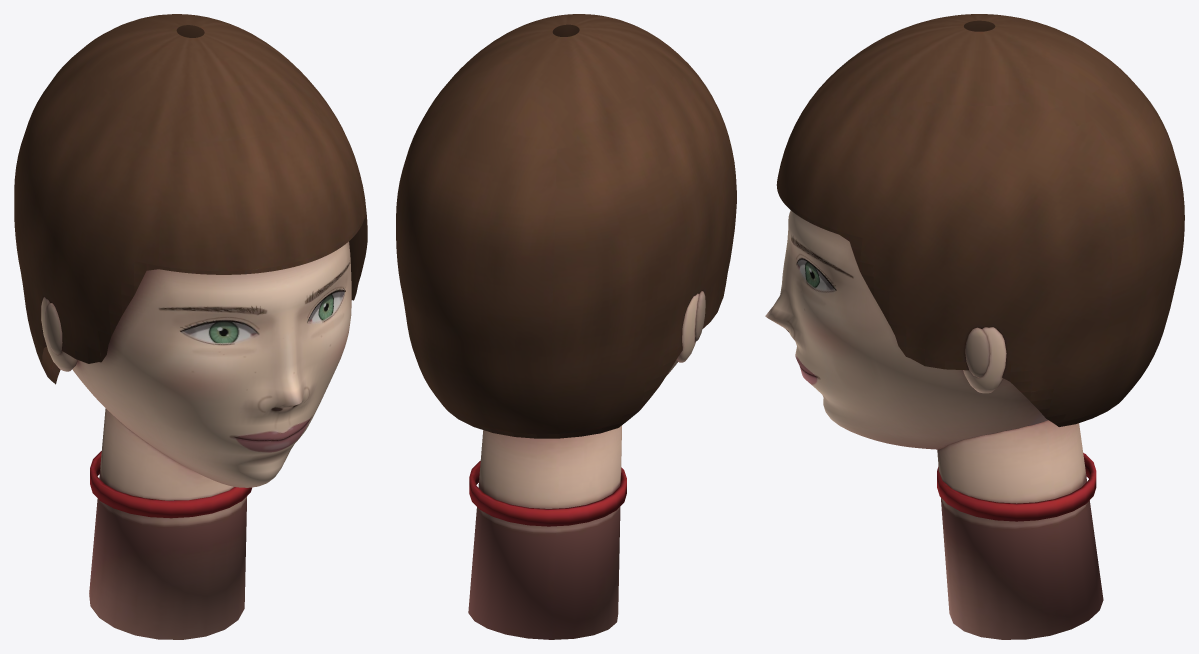
Rendered from cabeza-rebecca-f.glb.
3 views of the same model, side by side, from view 1: azimuth 30°, elevation 25°; view 2: azimuth 150°, elevation 25°; view 3: azimuth 270°, elevation 25° (orthographic). The views are drawn at different scales.
Parts seen in each view (by area): view 1: h_Head; view 2: h_Head; view 3: h_Head.
Part boxes in pixels (<box>): h_Head: <box>14,14,367,639</box>; h_Head: <box>396,14,736,639</box>; h_Head: <box>765,14,1184,639</box>.
Size of the model in its own units: 0.1647 by 0.3267 by 0.2116.
Materials: 1 (1 with a texture image).
